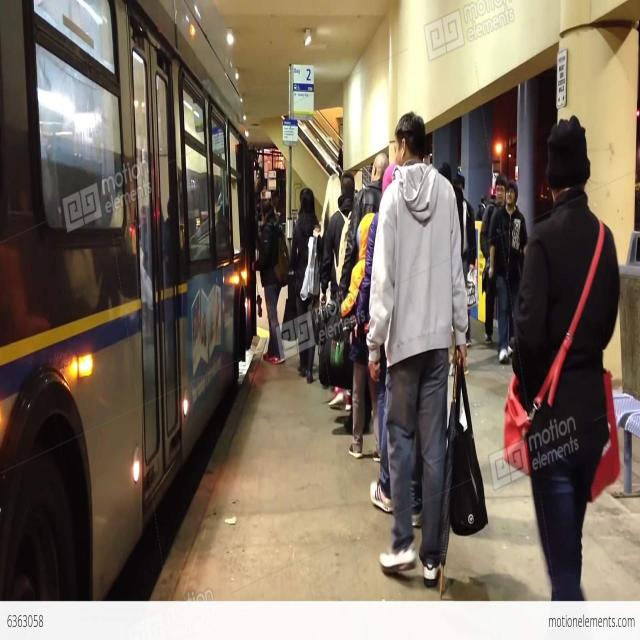body: (500, 113, 622, 640), (366, 105, 487, 589), (2, 155, 136, 340), (355, 164, 423, 528), (338, 152, 390, 436), (338, 211, 382, 463), (320, 172, 358, 412), (134, 187, 224, 286), (488, 177, 530, 363), (290, 186, 322, 384), (250, 197, 286, 366), (479, 174, 508, 347), (451, 173, 478, 350), (436, 161, 464, 229), (319, 172, 342, 240), (254, 198, 262, 232), (476, 194, 486, 221)
